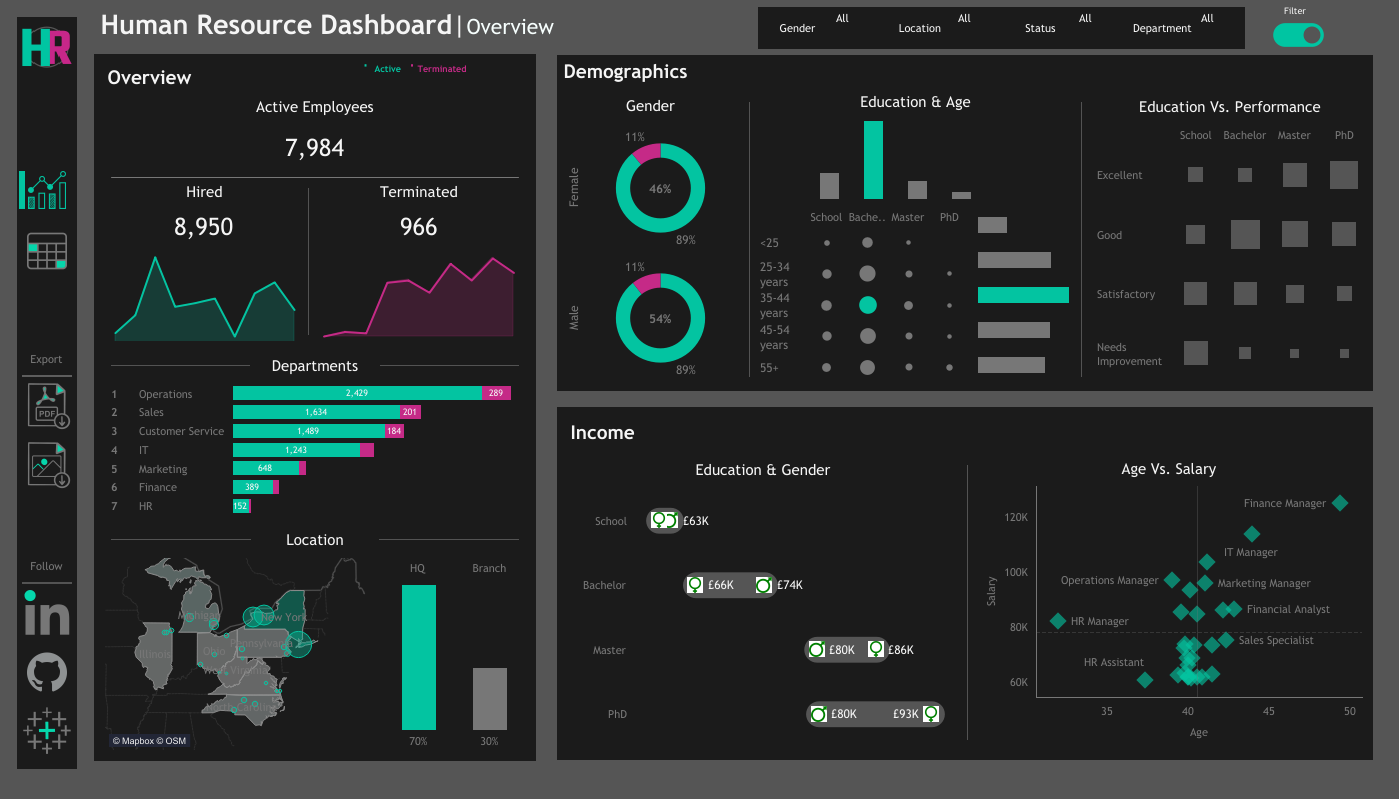

Layout of this report page (visuals, bound fields, positions):
{"tool":"tableau","page":{"name":"HR Summary","canvas":[1400,800],"ordinal":1},"visuals":[{"type":"text","box":[94,0,719,48]},{"type":"blank","box":[813,0,567,48]},{"type":"text","box":[1254,2,82,16]},{"type":"filter","title":"Employees across department","param":"[federated.0q6d1ti0g9648v12zxoer14len2q].[none:Gender:nk]","box":[758,7,121.7,42]},{"type":"filter","title":"Employees across department","param":"[federated.0q6d1ti0g9648v12zxoer14len2q].[none:Calculation_1286059212235599878:n","box":[879.7,7,121.7,42]},{"type":"filter","title":"Employees across department","param":"[federated.0q6d1ti0g9648v12zxoer14len2q].[none:Calculation_6477302208086462464:n","box":[1001.5,7,121.7,42]},{"type":"filter","title":"Employees across department","param":"[federated.0q6d1ti0g9648v12zxoer14len2q].[none:Department:nk]","box":[1123.2,7,121.8,42]},{"type":"image","param":"Image/Logo.png","box":[17,17,60,61]},{"type":"dashboard-object","box":[1273,20,51,31]},{"type":"text","box":[360,53,164,25]},{"type":"text","box":[557,55,816,32]},{"type":"text","box":[101,61,428,32]},{"type":"blank","box":[17,78,60,87]},{"type":"text","box":[557,92,187,26]},{"type":"blank","box":[749,92,1,295]},{"type":"text","box":[750,92,331,20]},{"type":"blank","box":[1081,92,1,295]},{"type":"text","box":[1087,92,286,28]},{"type":"text","box":[101,93,428,26]},{"type":"worksheet","title":"Education level","mark":"Bar","rows":["Calculation_1286059212228673536"],"cols":["Education Level"],"box":[750,112,331,90]},{"type":"worksheet","title":"Gender","mark":"Pie","rows":["Gender"],"cols":["Calculation_1286059212239118344","Calculation_1286059212239118344"],"box":[557,118,187,269]},{"type":"worksheet","title":"Total Active","mark":"Text","box":[101,119,428,57]},{"type":"worksheet","title":"Education Vs performance","mark":"Square","rows":["Performance Rating"],"cols":["Education Level"],"box":[1087,120,286,267]},{"type":"text","box":[18,135,60,21]},{"type":"blank","box":[16,152,60,12]},{"type":"blank","box":[19,171,6,38]},{"type":"dashboard-object","box":[23,171,48,38]},{"type":"blank","box":[101,176,428,1]},{"type":"text","box":[101,177,207,26]},{"type":"blank","box":[308,177,1,167]},{"type":"text","box":[309,177,219.9,26]},{"type":"worksheet","title":"Age Vs education","mark":"Circle","rows":["Calculation_1286059212242436106"],"cols":["Education Level"],"box":[750,202,224,185]},{"type":"worksheet","title":"Age group","mark":"Bar","rows":["Calculation_1286059212242436106"],"cols":["Calculation_1286059212228673536"],"box":[974,202,104,185]},{"type":"worksheet","title":"Total Hired","mark":"Text","box":[101,203,207,43]},{"type":"worksheet","title":"Total Terminated","mark":"Text","box":[309,203,219.9,44]},{"type":"blank","box":[17,215,60,12]},{"type":"dashboard-object","box":[17,227,60,48]},{"type":"worksheet","title":"Total Hired over time","mark":"Line","rows":["Calculation_1286059212228673536","Calculation_1286059212228673536"],"cols":["Hiredate"],"box":[101,246,207,98]},{"type":"worksheet","title":"Total terminated over time ","mark":"Line","rows":["Calculation_1286059212228796417","Calculation_1286059212228796417"],"cols":["Termdate"],"box":[309,247,219.9,97]},{"type":"blank","box":[17,275,60,73]},{"type":"text","box":[17,348,60,21]},{"type":"blank","box":[111,349,138.7,30]},{"type":"text","box":[249.7,349,130.6,30]},{"type":"blank","box":[380.3,349,138.7,30]},{"type":"blank","box":[17,369,60,12]},{"type":"worksheet","title":"Employees across department","mark":"Bar","rows":["Calculation_1286059212235030533","Department"],"cols":["Calculation_1286059212228673536"],"box":[101,379,428,140]},{"type":"dashboard-object","box":[17,381,60,48]},{"type":"text","box":[564,414.5,802,36]},{"type":"blank","box":[17,429,60,11]},{"type":"dashboard-object","box":[17,440,60,48]},{"type":"text","box":[564,455.5,399,29]},{"type":"blank","box":[968,455.5,1,295]},{"type":"text","box":[974,455.5,392,26]},{"type":"worksheet","title":"Age vs salary","mark":"Shape","rows":["Salary"],"cols":["Calculation_1286059212241514505"],"box":[974,481.5,392,269]},{"type":"worksheet","title":"gender Vs Education","mark":"Square","rows":["Education Level"],"cols":["Salary","Salary"],"box":[564,484.5,399,266]},{"type":"blank","box":[17,488,60,66]},{"type":"blank","box":[111,524,140,30]},{"type":"text","box":[251,524,128,30]},{"type":"blank","box":[379,524,140,30]},{"type":"text","box":[17,554,60,21]},{"type":"worksheet","title":"Map state","mark":"Multipolygon","box":[101,554,278,200]},{"type":"worksheet","title":"Location","mark":"Bar","rows":["Calculation_1286059212228673536"],"cols":["Calculation_1286059212235599878","Calculation_1286059212228673536"],"box":[379,554,150,200]},{"type":"blank","box":[17,575,60,12]},{"type":"image","param":"Image/contact-linkedin.png","box":[17,587,60,48]},{"type":"blank","box":[17,635,60,11]},{"type":"image","param":"Image/github (2).png","box":[17,646,60,48]},{"type":"blank","box":[17,694,60,11]},{"type":"image","param":"Image/contact-public.png","box":[17,705,60,48]}]}

Visuals, with their boxes in screenshot pixels (x1, y1, x2, y2), scaled from the page's 1400x800 canvas onto the 1399x799 screenshot:
text: 94,0,812,48
blank: 812,0,1379,48
text: 1253,2,1335,18
"Employees across department" filter: 757,7,879,49
"Employees across department" filter: 879,7,1001,49
"Employees across department" filter: 1001,7,1122,49
"Employees across department" filter: 1122,7,1244,49
image: 17,17,77,78
dashboard-object: 1272,20,1323,51
text: 360,53,524,78
text: 557,55,1372,87
text: 101,61,529,93
blank: 17,78,77,165
text: 557,92,743,118
blank: 748,92,749,387
text: 749,92,1080,112
blank: 1080,92,1081,387
text: 1086,92,1372,120
text: 101,93,529,119
"Education level" worksheet (Bar marks): 749,112,1080,202
"Gender" worksheet (Pie marks): 557,118,743,387
"Total Active" worksheet (Text marks): 101,119,529,176
"Education Vs performance" worksheet (Square marks): 1086,120,1372,387
text: 18,135,78,156
blank: 16,152,76,164
blank: 19,171,25,209
dashboard-object: 23,171,71,209
blank: 101,176,529,177
text: 101,177,308,203
blank: 308,177,309,344
text: 309,177,529,203
"Age Vs education" worksheet (Circle marks): 749,202,973,387
"Age group" worksheet (Bar marks): 973,202,1077,387
"Total Hired" worksheet (Text marks): 101,203,308,246
"Total Terminated" worksheet (Text marks): 309,203,529,247
blank: 17,215,77,227
dashboard-object: 17,227,77,275
"Total Hired over time" worksheet (Line marks): 101,246,308,344
"Total terminated over time " worksheet (Line marks): 309,247,529,344
blank: 17,275,77,348
text: 17,348,77,369
blank: 111,349,250,379
text: 250,349,380,379
blank: 380,349,519,379
blank: 17,369,77,381
"Employees across department" worksheet (Bar marks): 101,379,529,518
dashboard-object: 17,381,77,428
text: 564,414,1365,450
blank: 17,428,77,439
dashboard-object: 17,439,77,487
text: 564,455,962,484
blank: 967,455,968,750
text: 973,455,1365,481
"Age vs salary" worksheet (Shape marks): 973,481,1365,750
"gender Vs Education" worksheet (Square marks): 564,484,962,750
blank: 17,487,77,553
blank: 111,523,251,553
text: 251,523,379,553
blank: 379,523,519,553
text: 17,553,77,574
"Map state" worksheet (Multipolygon marks): 101,553,379,753
"Location" worksheet (Bar marks): 379,553,529,753
blank: 17,574,77,586
image: 17,586,77,634
blank: 17,634,77,645
image: 17,645,77,693
blank: 17,693,77,704
image: 17,704,77,752
